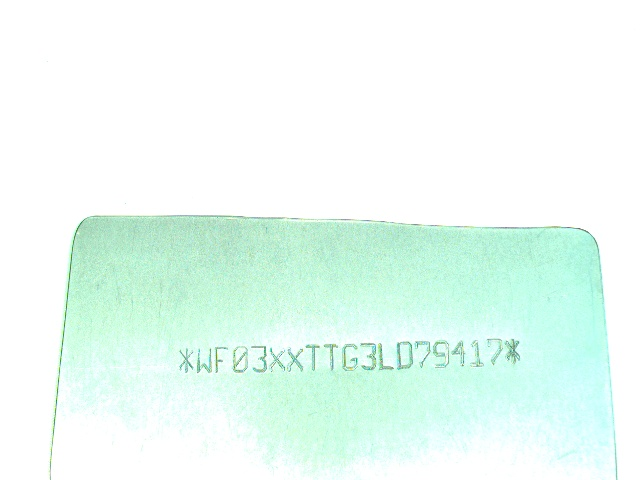0: (232, 343, 251, 373)
1: (469, 339, 485, 367)
3: (250, 343, 269, 374), (360, 341, 377, 373)
4: (451, 339, 468, 369)
7: (486, 338, 506, 368), (414, 339, 432, 371)
9: (432, 339, 450, 370)
d: (396, 340, 415, 371)
f: (215, 343, 230, 373)
g: (340, 342, 360, 372)
l: (377, 340, 394, 372)
t: (321, 341, 339, 372), (304, 342, 321, 372)
w: (197, 345, 215, 374)
x: (287, 344, 306, 375), (267, 344, 286, 374)
